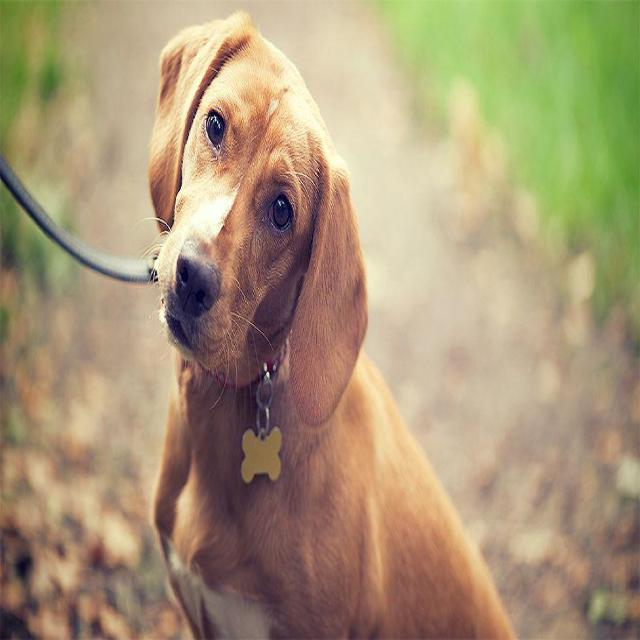Dog: (94, 3, 399, 474)
